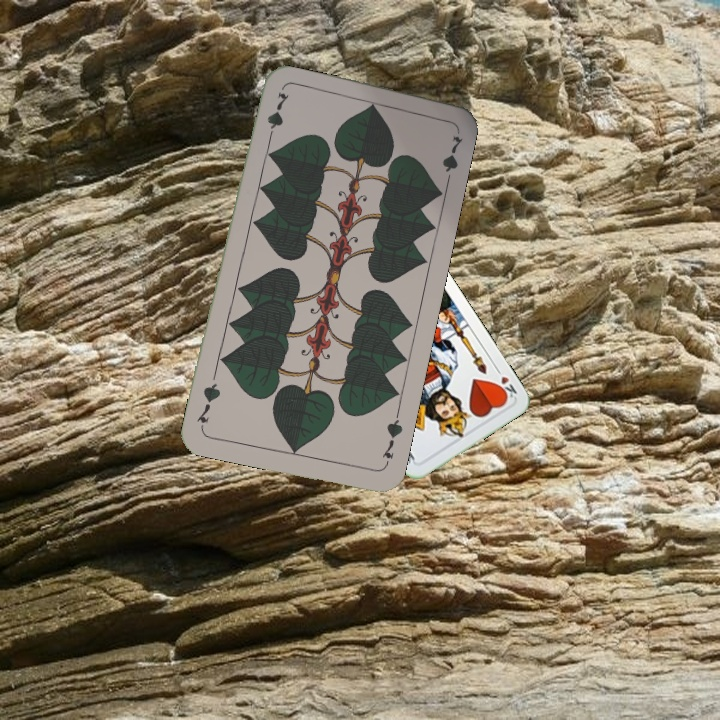G7: (377, 410, 405, 469), (263, 89, 287, 147)
HK: (491, 363, 520, 402)
